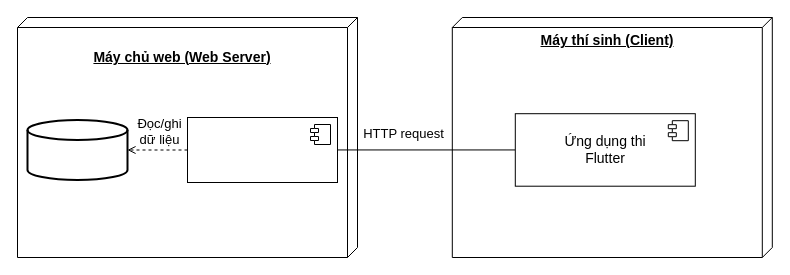
The diagram is 790 pixels wide and 275 high, and some of its shapes have lost their labels. The shapes that lost their labels are listed below. From the top down, each one's centre as x and y in pixels, then its label:
At point 77,149: "Cơ sở dữ liệu MySQL".
At point 262,149: "Ứng dụng PHP".
